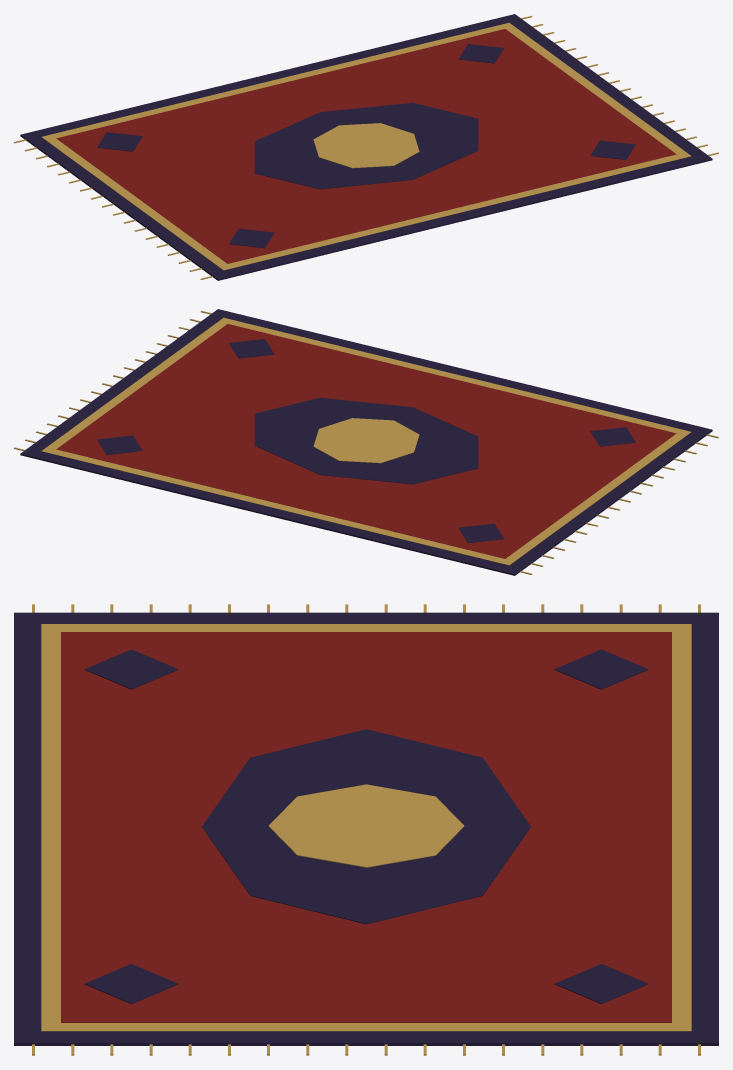
The model's file is rug_persian.glb.
3 renders of one model, top to bottom at view 1: azimuth 30°, elevation 25°; view 2: azimuth 150°, elevation 25°; view 3: azimuth 270°, elevation 25°, orthographic. The views are drawn at different scales.
Visible parts, largest first — view 1: rug_persian; view 2: rug_persian; view 3: rug_persian.
Boxes of the visible parts, x1,y1,x2,y2 form: rug_persian: [14, 14, 718, 280]; rug_persian: [14, 309, 718, 575]; rug_persian: [14, 604, 718, 1055].
Bounding box in the file's own units: 2.72 × 0.014 × 1.8.
